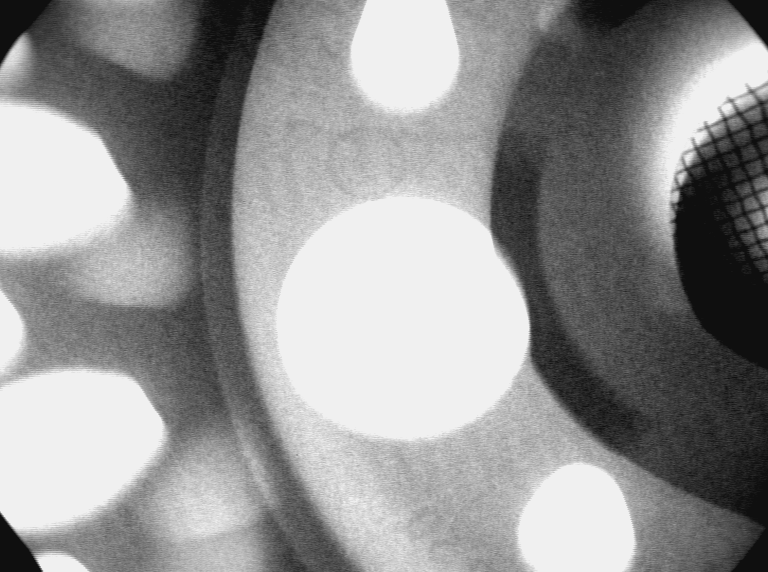defect: (532, 2, 588, 52)
